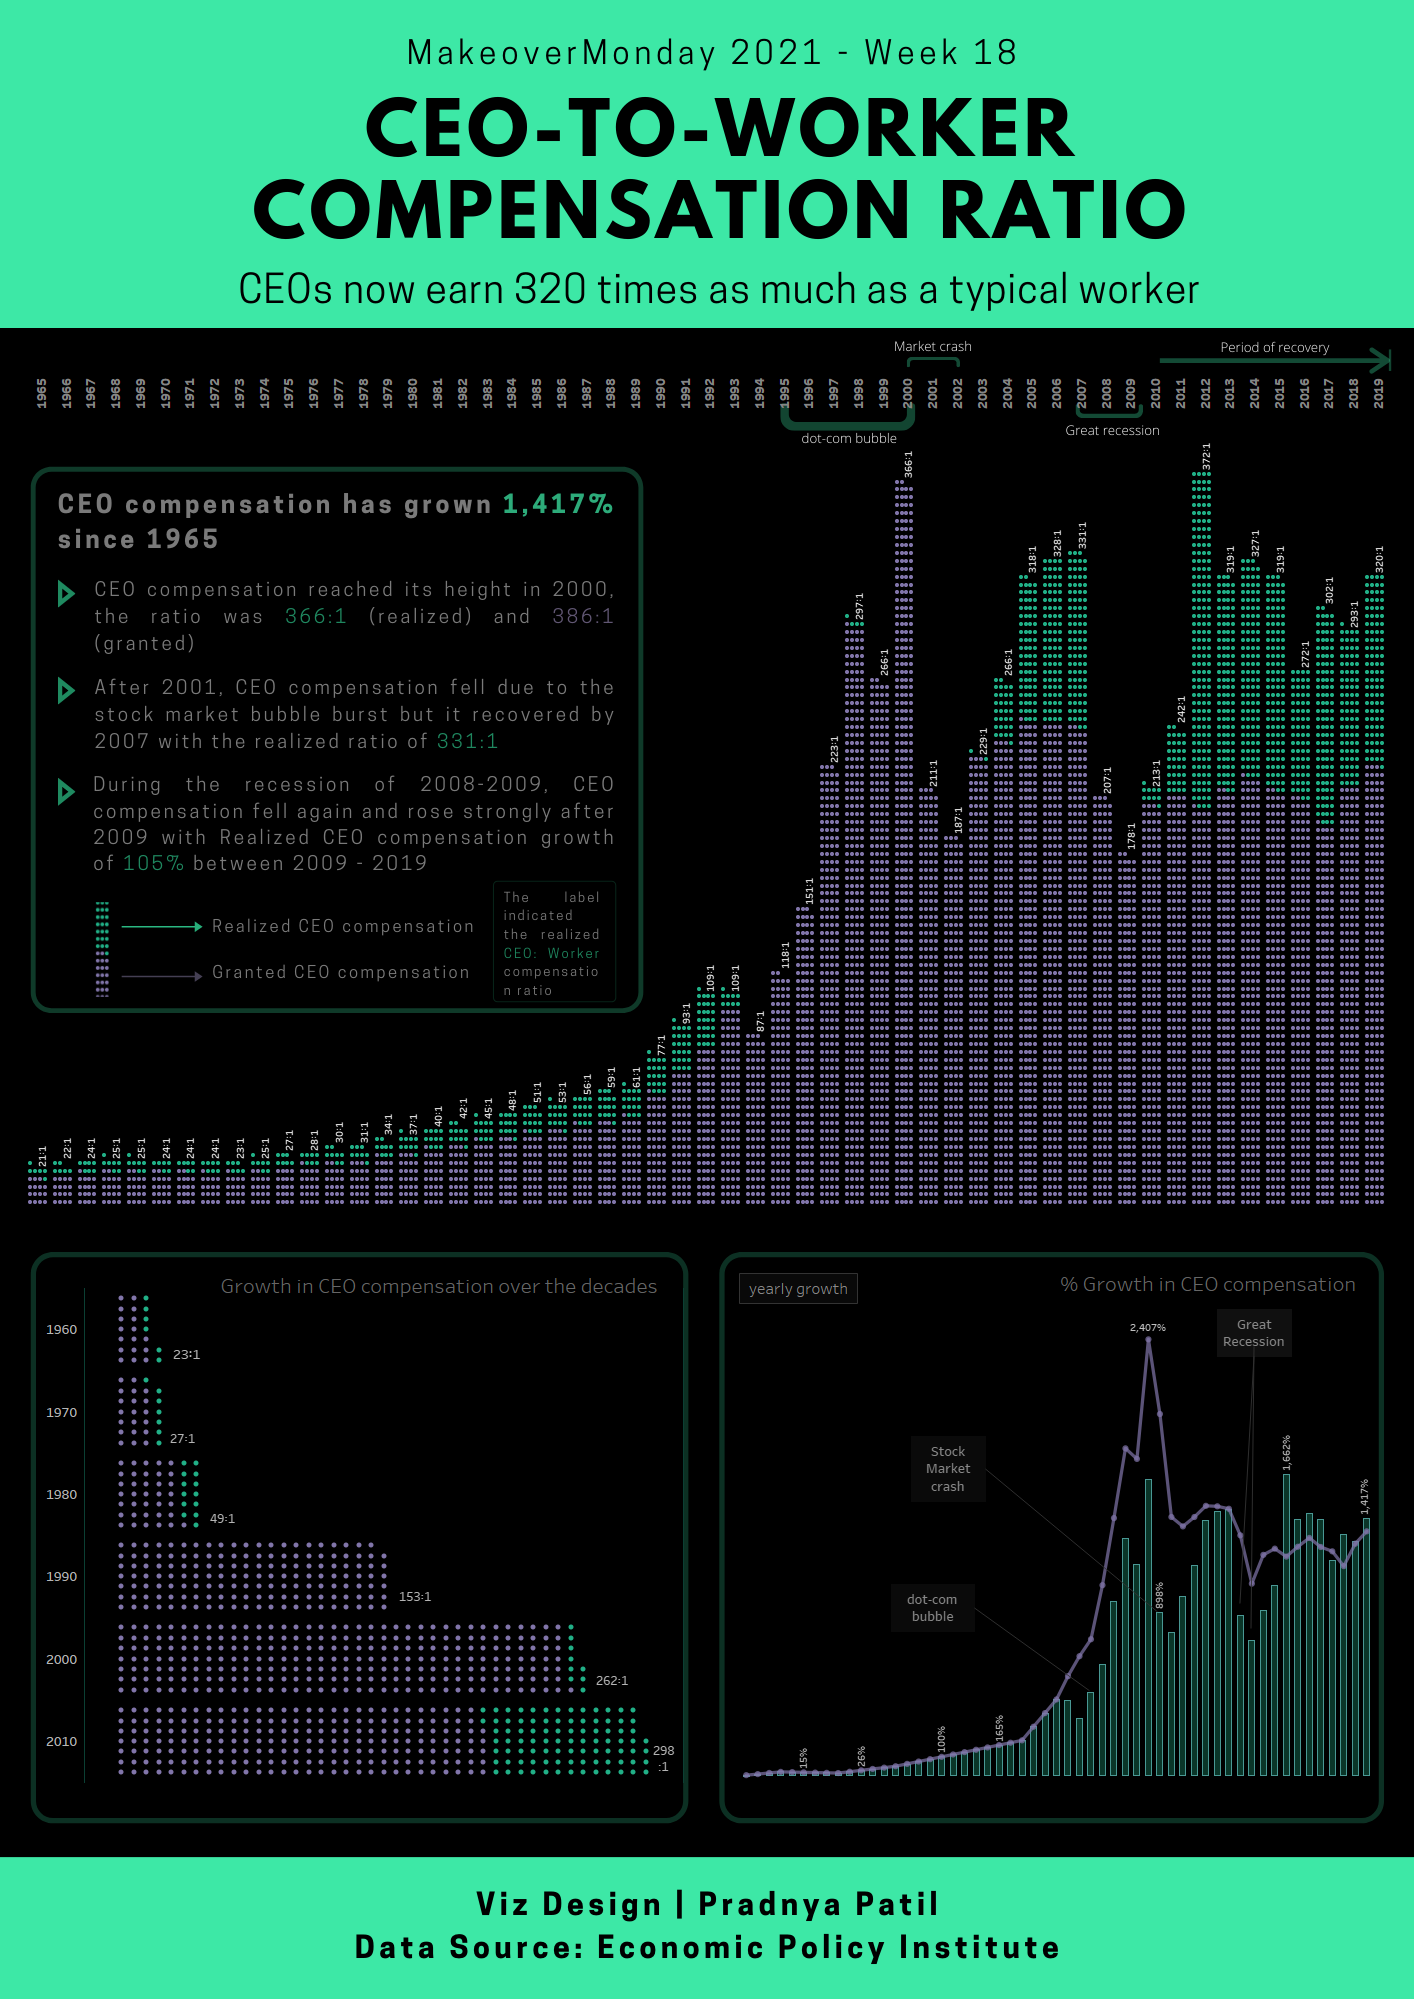

The page's visual inventory and layout, read from the dashboard file:
{"tool":"tableau","page":{"name":"CEO to Worker compensation ratio","canvas":[1414,2000],"ordinal":0},"visuals":[{"type":"worksheet","param":"C:/Users/Admin/Downloads/Black Neon Green Leaves Modern Beauty Skincare Flyer (1","box":[0,0,1414,2000]},{"type":"worksheet","title":"Compensation over the years","mark":"Shape","rows":["Calculation_367606358841819137"],"cols":["Year","Calculation_367606358842773508"],"box":[25,354,1362,888]},{"type":"worksheet","box":[217,1270,445,30]},{"type":"worksheet","box":[1057,1271,311,24]},{"type":"worksheet","box":[739,1273,119,31]},{"type":"worksheet","title":"%compensation since 1965","mark":"Bar","cols":["Year"],"box":[740,1275,632,525]},{"type":"worksheet","param":"vert","box":[734,1281,643,528]},{"type":"worksheet","title":"%compensation yearly","mark":"Bar","cols":["Year"],"box":[734,1281,643,528]},{"type":"worksheet","title":"compensation-decades","mark":"Shape","rows":["Decades","Rows (copy)_1379508900190461953"],"cols":["Col (copy)_1379508900190306304"],"box":[40,1288,644,495]}]}

Visuals, with their boxes in screenshot pixels (x1, y1, x2, y2), scaled from the page's 1414x2000 canvas onto the 1414x2000 screenshot:
worksheet: (left=0, top=0, right=1413, bottom=1999)
"Compensation over the years" worksheet (Shape marks): (left=25, top=354, right=1387, bottom=1242)
worksheet: (left=217, top=1270, right=662, bottom=1300)
worksheet: (left=1057, top=1271, right=1368, bottom=1295)
worksheet: (left=739, top=1273, right=858, bottom=1304)
"%compensation since 1965" worksheet (Bar marks): (left=740, top=1275, right=1372, bottom=1800)
worksheet: (left=734, top=1281, right=1377, bottom=1809)
"%compensation yearly" worksheet (Bar marks): (left=734, top=1281, right=1377, bottom=1809)
"compensation-decades" worksheet (Shape marks): (left=40, top=1288, right=684, bottom=1783)
